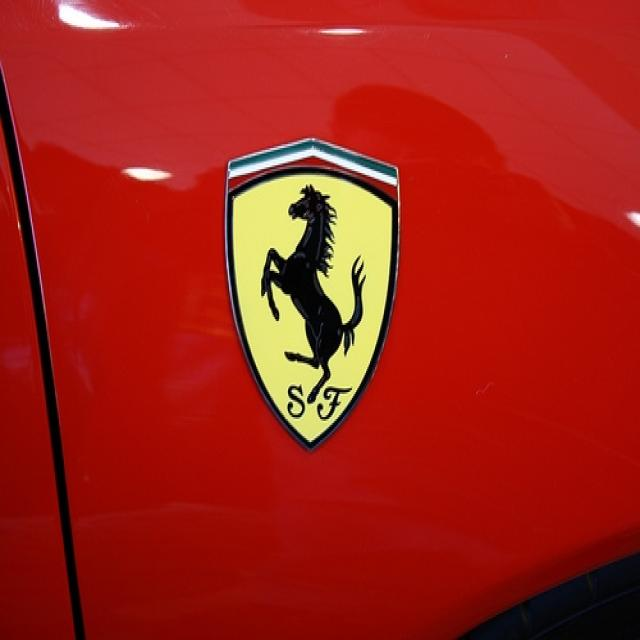ferrari: (225, 137, 402, 451)
